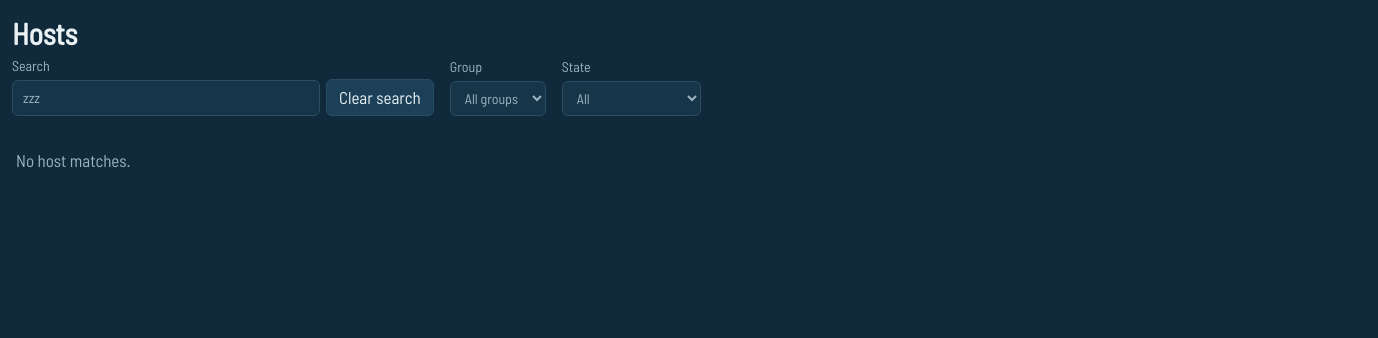
Test: while the answer for a new query is outstanding › hides the empty sentence and shows the next rows when they arrive
Later steps or results of the test are not shown.
Expected: the text "No host matches." is shown, [16, 150, 130, 170]
Select "Without problems" in the dropdown labelled "State": x=631, y=99 [562, 81, 701, 116]
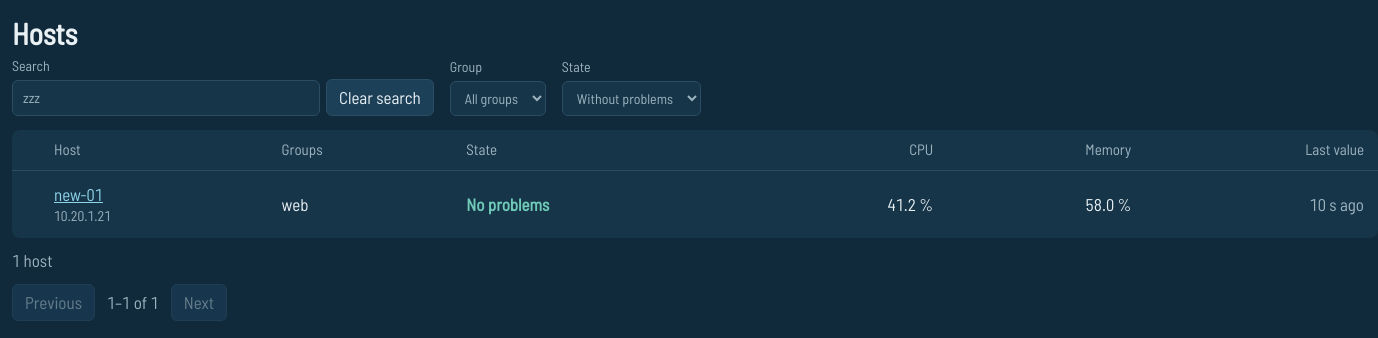
Expected: the text "No host matches." is gone
Expected: the link "new-01" is shown, [54, 184, 103, 204]
